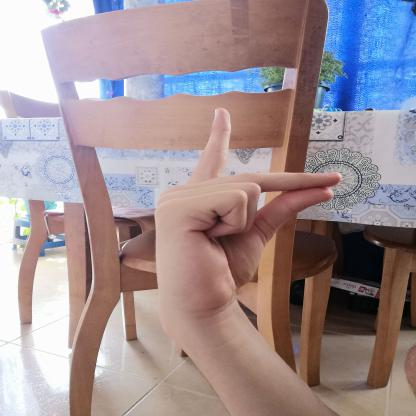TAA: (138, 100, 352, 328)
